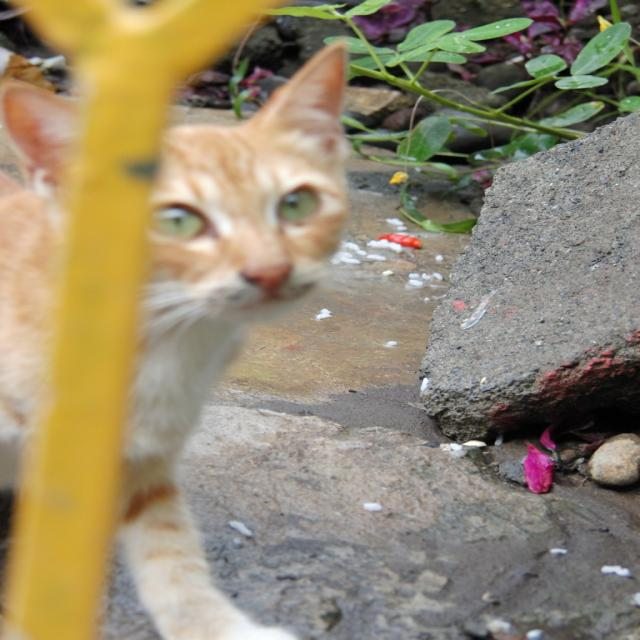Cat: (0, 34, 359, 638)
